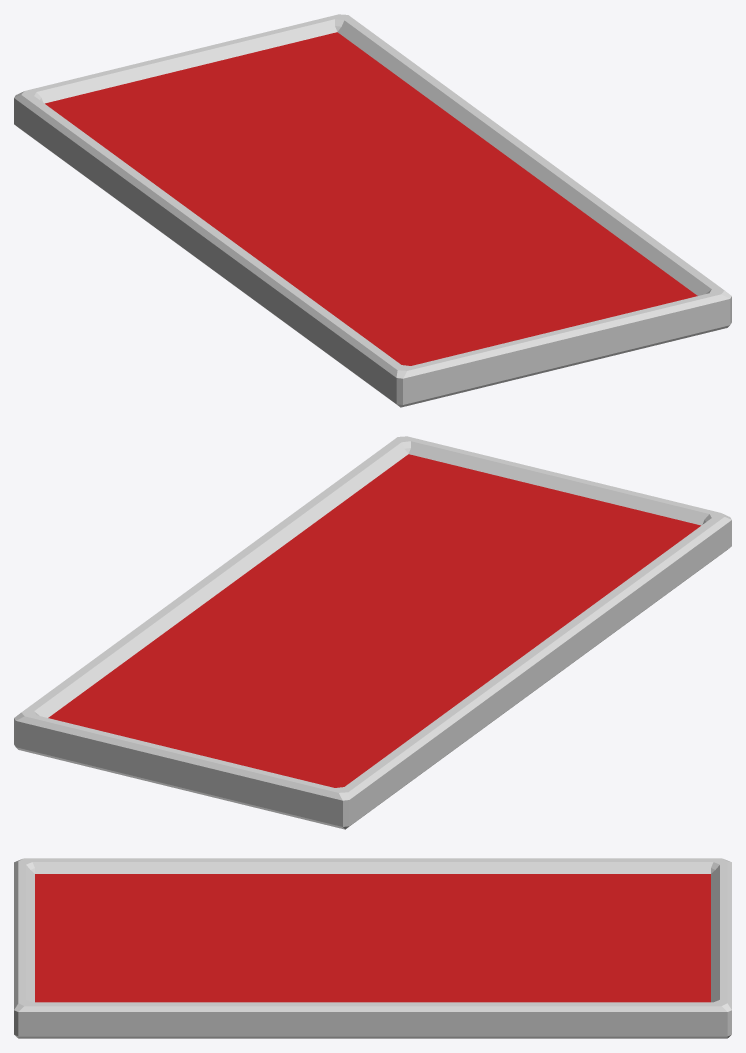
The model's file is Sign.fbx.
3 renders of one model, top to bottom at view 1: azimuth 30°, elevation 25°; view 2: azimuth 150°, elevation 25°; view 3: azimuth 270°, elevation 25°, orthographic. The views are drawn at different scales.
Parts seen in each view (by area): view 1: Sign; view 2: Sign; view 3: Sign.
Boxes of the visible parts, x1,y1,x2,y2 form: Sign: (14,14,731,407); Sign: (14,436,731,829); Sign: (14,858,731,1038).
Size of the model in its own units: 200 by 20 by 400.
